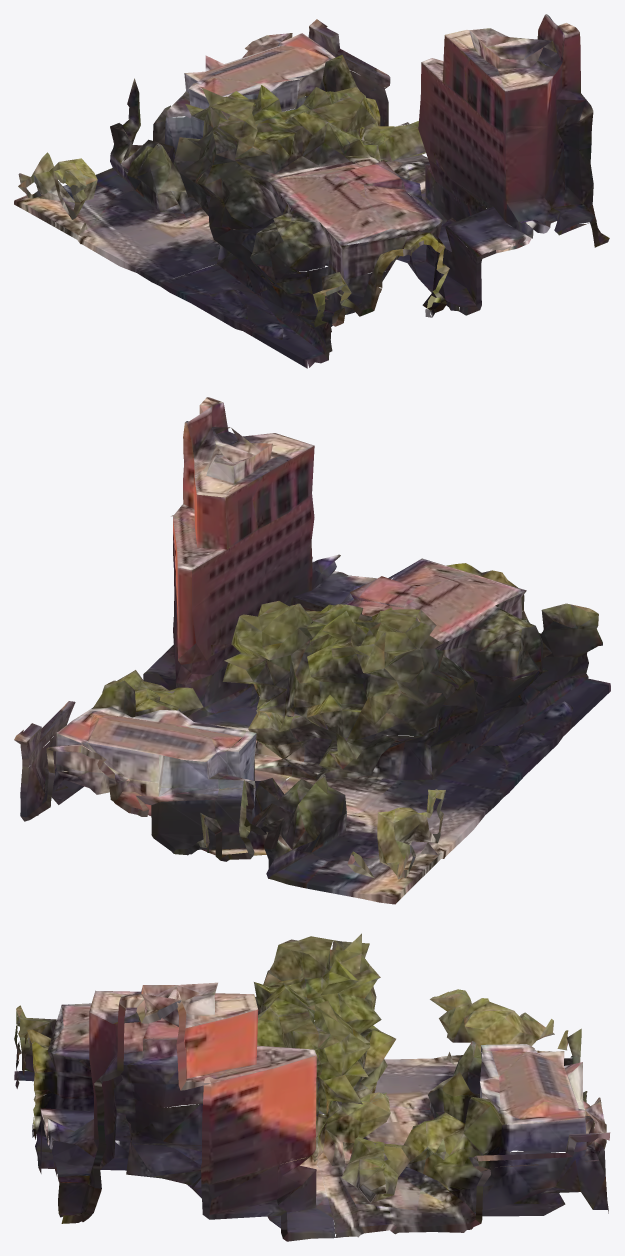
3 views of the same model, one above another, from view 1: azimuth 30°, elevation 25°; view 2: azimuth 150°, elevation 25°; view 3: azimuth 270°, elevation 25° (orthographic). The views are drawn at different scales.
Visible parts, largest first — view 1: Mesh_0; view 2: Mesh_0; view 3: Mesh_0.
Part boxes in pixels (x1,y1,x2,y2): Mesh_0: [14, 14, 609, 368]; Mesh_0: [14, 397, 610, 904]; Mesh_0: [14, 933, 610, 1241].
Bounding box in the file's own units: 66.57 × 39.63 × 82.57.
Materials: 1 (1 with a texture image).
